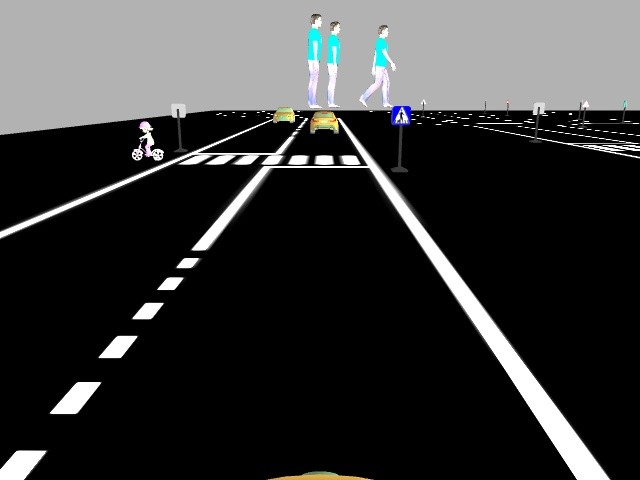Crosswalk: (390, 103, 410, 124)
Pedestrian: (131, 121, 165, 162)
